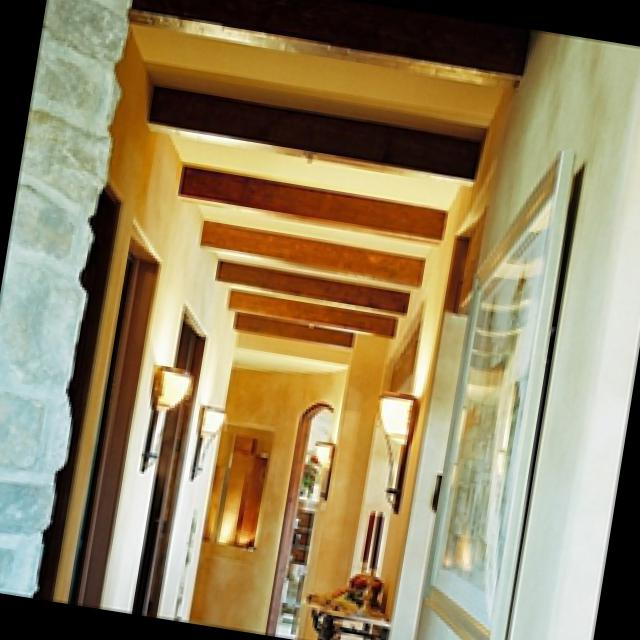painting crop: (425, 151, 580, 640)
